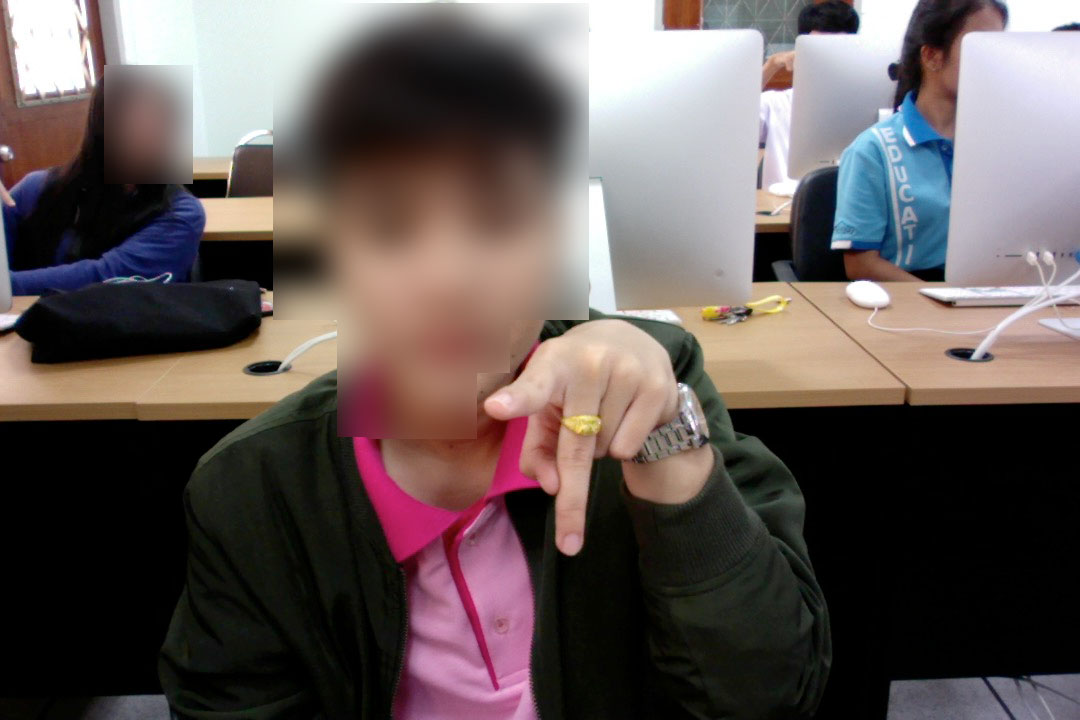por: (478, 297, 680, 560)
